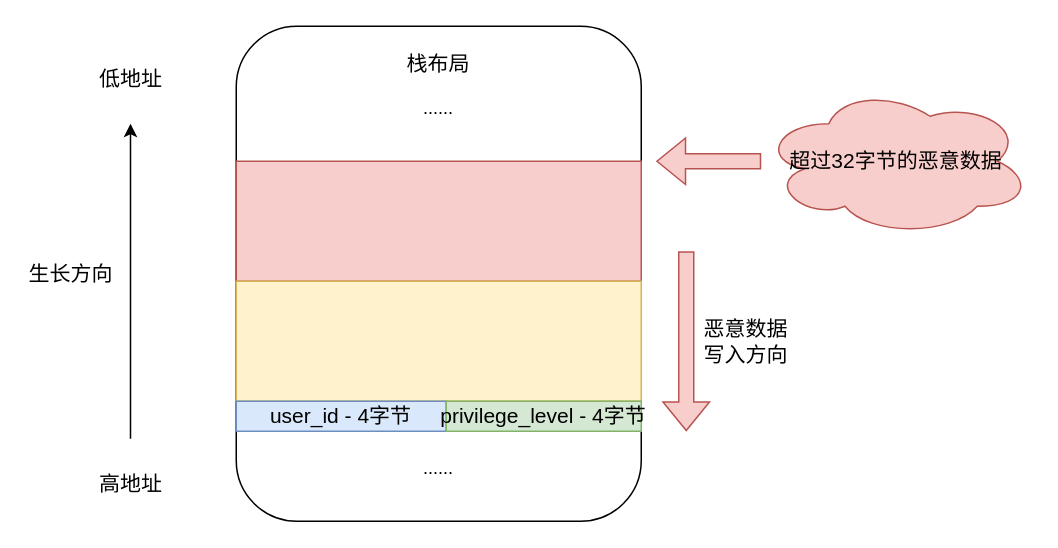
The diagram is 1058 pixels wide and 548 high, and some of its shapes have lost their labels. Here are the shapes that lost their labels. From the top down, the box of each, then its label:
(235, 160, 641, 281): username - 32字节
(235, 280, 641, 401): password - 32字节
